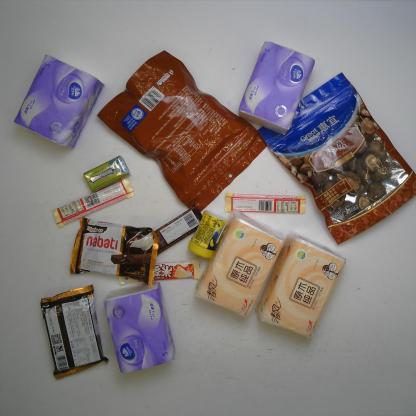Chocolate: (52, 178, 135, 228), (150, 203, 205, 255), (117, 259, 201, 285), (223, 191, 306, 215)
Dessert: (40, 284, 110, 380), (69, 215, 160, 286)
Dried Food: (95, 50, 268, 214), (256, 73, 416, 247)
Gum: (188, 210, 230, 260), (83, 155, 130, 192)
Tissue: (254, 230, 346, 340), (194, 211, 286, 319), (13, 54, 104, 148), (237, 40, 315, 136), (103, 280, 177, 375)
